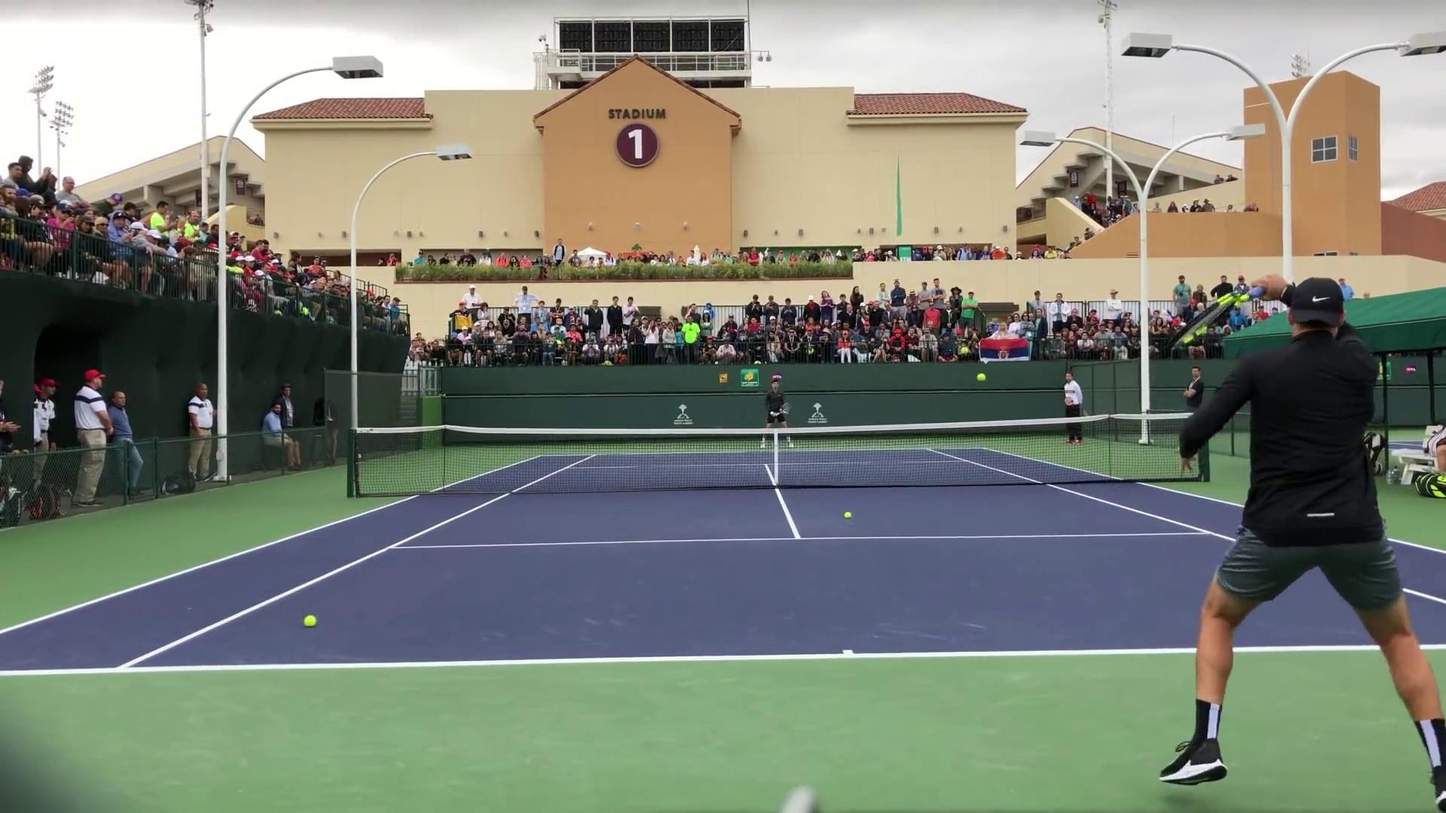ball: (302, 614, 318, 627), (843, 512, 853, 519), (975, 375, 981, 380)
